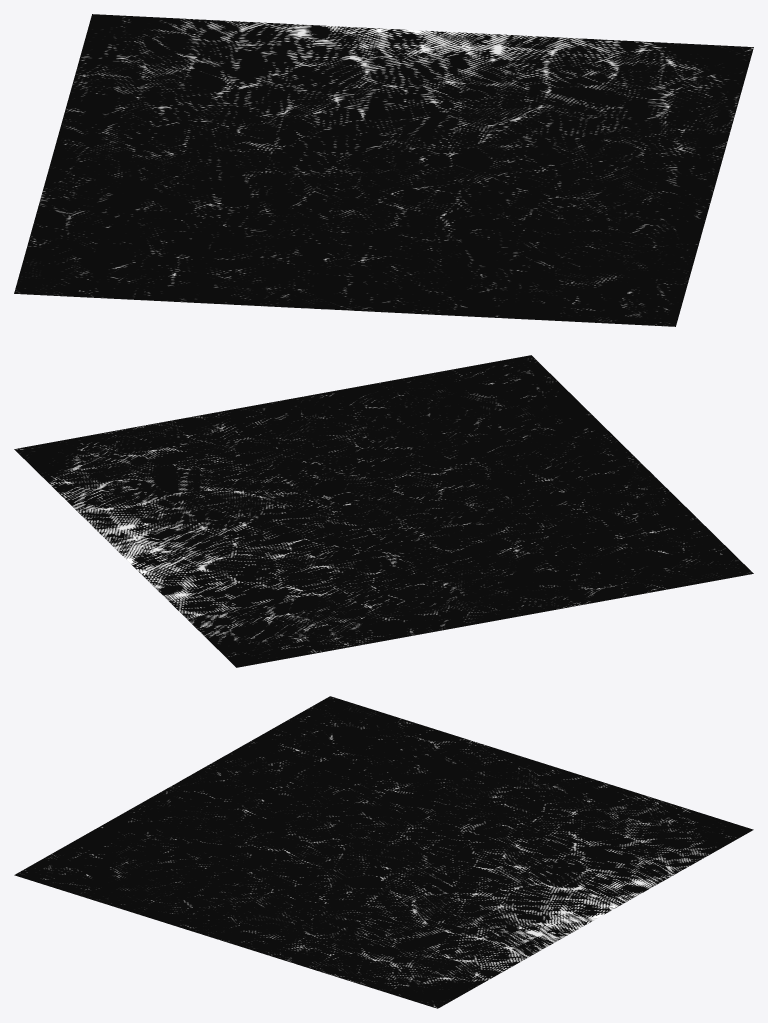
Rendered from floor.glb.
3 views of the same model, one above another, from view 1: azimuth 30°, elevation 25°; view 2: azimuth 150°, elevation 25°; view 3: azimuth 270°, elevation 25° (orthographic). The views are drawn at different scales.
Visible parts, largest first — view 1: Plane.001; view 2: Plane.001; view 3: Plane.001.
Part boxes in pixels (bbox=[...]): Plane.001: bbox=[14, 14, 753, 326]; Plane.001: bbox=[14, 355, 753, 667]; Plane.001: bbox=[14, 696, 753, 1008].
Size of the model in its own units: 650 by 0 by 650.
Materials: 1 (1 with a texture image).
